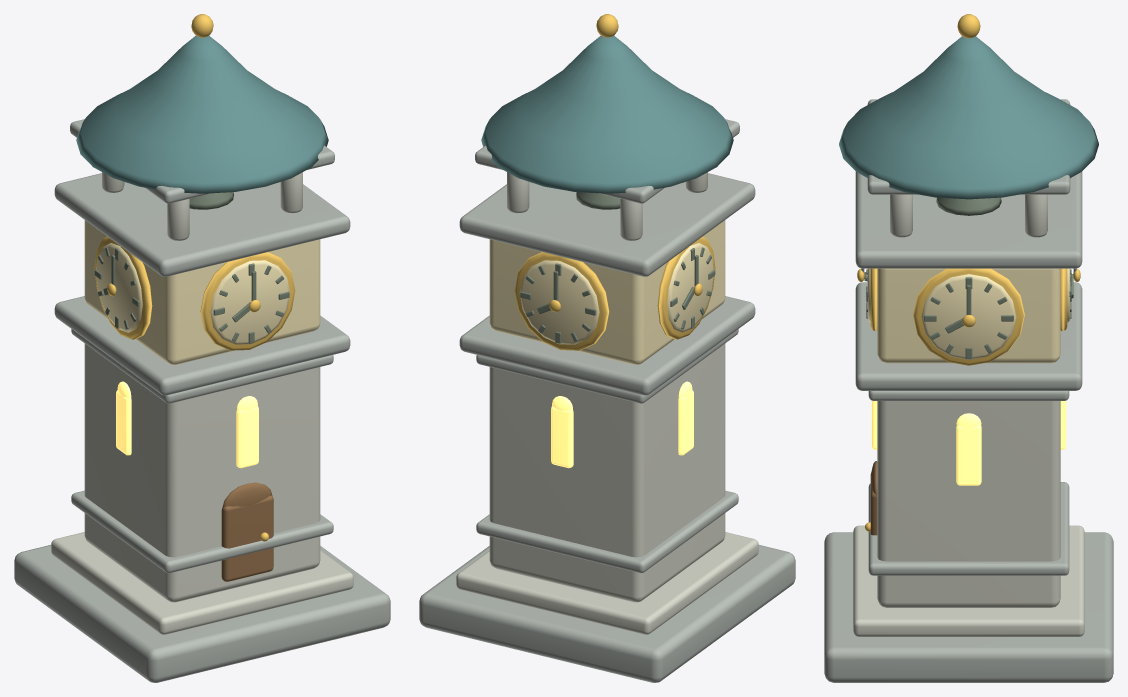
The model's file is decor-village-clock.glb.
3 views of the same model, side by side, from view 1: azimuth 30°, elevation 25°; view 2: azimuth 150°, elevation 25°; view 3: azimuth 270°, elevation 25° (orthographic). The views are drawn at different scales.
Parts seen in each view (by area): view 1: village-clock-stone.003, village-clock-lightstone.003, village-clock-tile.003, village-clock-cream.003, village-clock-wood.003, village-clock-gold.003, village-clock-glass.003, village-clock-bronze.003; view 2: village-clock-lightstone.003, village-clock-stone.003, village-clock-tile.003, village-clock-cream.003, village-clock-gold.003, village-clock-glass.003, village-clock-bronze.003; view 3: village-clock-stone.003, village-clock-lightstone.003, village-clock-tile.003, village-clock-cream.003, village-clock-gold.003, village-clock-glass.003, village-clock-bronze.003, village-clock-wood.003.
Part boxes in pixels (left/top/right/bottom): village-clock-stone.003: left=14, top=119, right=390, bottom=682; village-clock-lightstone.003: left=51, top=172, right=353, bottom=634; village-clock-tile.003: left=76, top=36, right=328, bottom=193; village-clock-cream.003: left=84, top=220, right=320, bottom=364; village-clock-wood.003: left=221, top=482, right=273, bottom=581; village-clock-gold.003: left=94, top=14, right=295, bottom=541; village-clock-glass.003: left=116, top=381, right=258, bottom=468; village-clock-bronze.003: left=94, top=192, right=289, bottom=343; village-clock-lightstone.003: left=456, top=172, right=758, bottom=634; village-clock-stone.003: left=419, top=119, right=795, bottom=682; village-clock-tile.003: left=481, top=36, right=733, bottom=193; village-clock-cream.003: left=489, top=220, right=725, bottom=364; village-clock-gold.003: left=514, top=14, right=715, bottom=350; village-clock-glass.003: left=551, top=381, right=693, bottom=468; village-clock-bronze.003: left=520, top=192, right=715, bottom=343; village-clock-stone.003: left=824, top=99, right=1113, bottom=682; village-clock-lightstone.003: left=853, top=194, right=1084, bottom=636; village-clock-tile.003: left=839, top=36, right=1098, bottom=199; village-clock-cream.003: left=867, top=268, right=1070, bottom=363; village-clock-gold.003: left=857, top=14, right=1080, bottom=531; village-clock-glass.003: left=871, top=400, right=1066, bottom=485; village-clock-bronze.003: left=861, top=197, right=1076, bottom=359; village-clock-wood.003: left=870, top=461, right=877, bottom=535.
Bounding box in the file's own units: 3 × 6.98 × 3.
